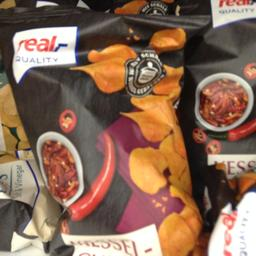chips: (0, 9, 205, 255)
